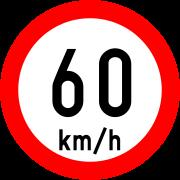Speed Limit -60-: (25, 34, 161, 162)
